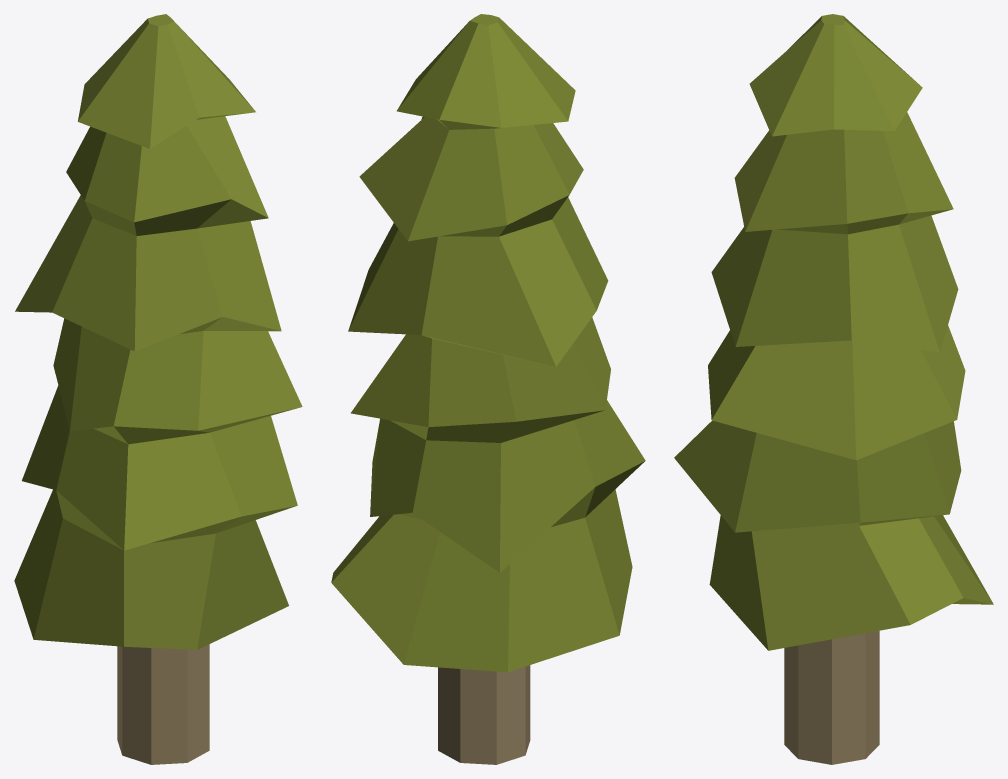
Rendered from Pinetree stylized 4.fbx.
The picture shows the model from 3 angles, left to right: view 1: azimuth 30°, elevation 25°; view 2: azimuth 150°, elevation 25°; view 3: azimuth 270°, elevation 25°; orthographic projection.
Parts seen in each view (by area): view 1: pinetree_cylinder; view 2: pinetree_cylinder; view 3: pinetree_cylinder.
Part boxes in pixels (left/top/right/bottom): pinetree_cylinder: left=14, top=14, right=302, bottom=764; pinetree_cylinder: left=331, top=14, right=645, bottom=764; pinetree_cylinder: left=674, top=14, right=993, bottom=764.
Size of the model in its own units: 1.74 by 4.94 by 1.98.
